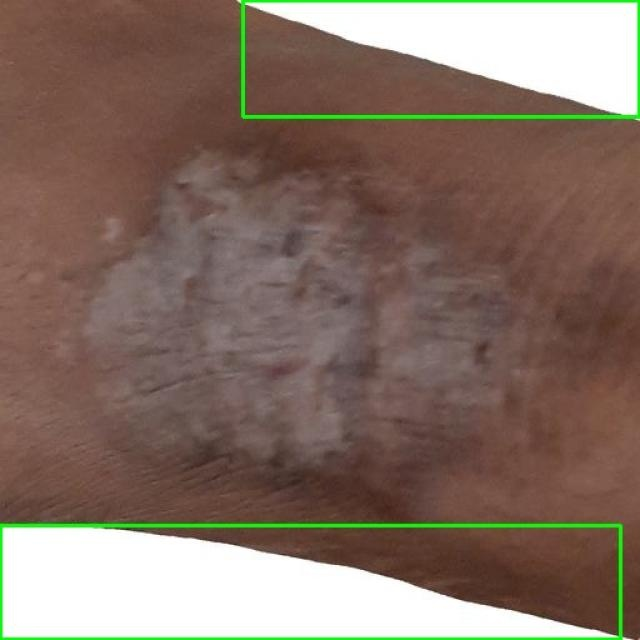Tinea Corporis: (0, 525, 620, 639), (242, 0, 639, 118)
